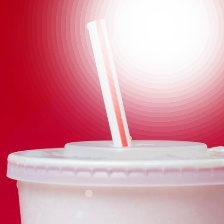drinking_straw: (82, 15, 138, 151)
glass: (1, 132, 224, 223)
